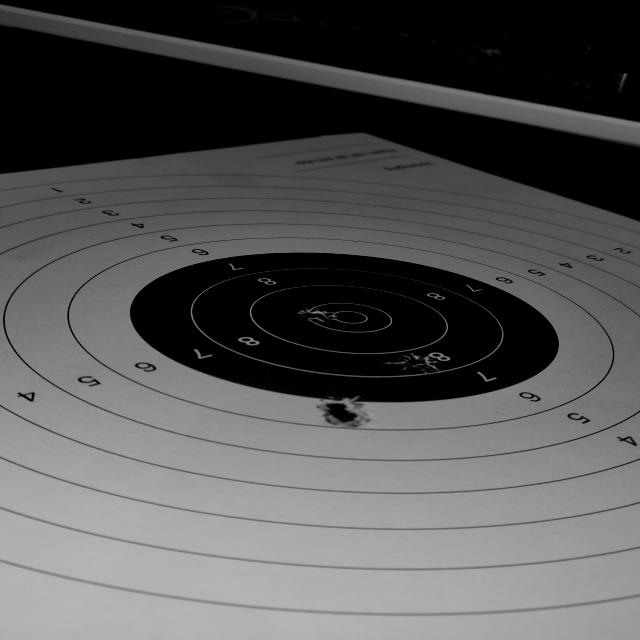10: (298, 308, 330, 322)
6: (324, 414, 371, 430)
7: (318, 394, 365, 414)
8: (391, 351, 438, 371)
Target: (0, 172, 640, 617)
black_contour: (132, 250, 562, 404)
